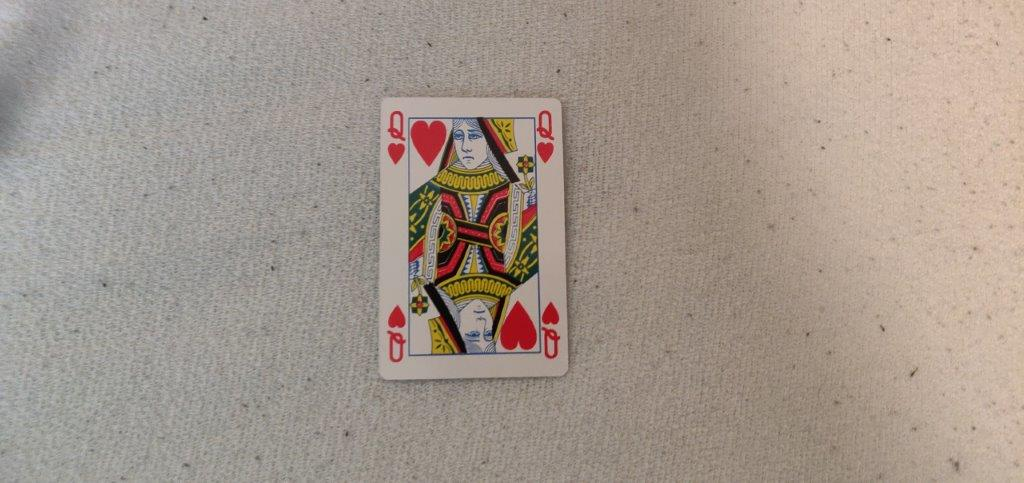QH: (381, 103, 410, 167), (533, 105, 562, 166)
